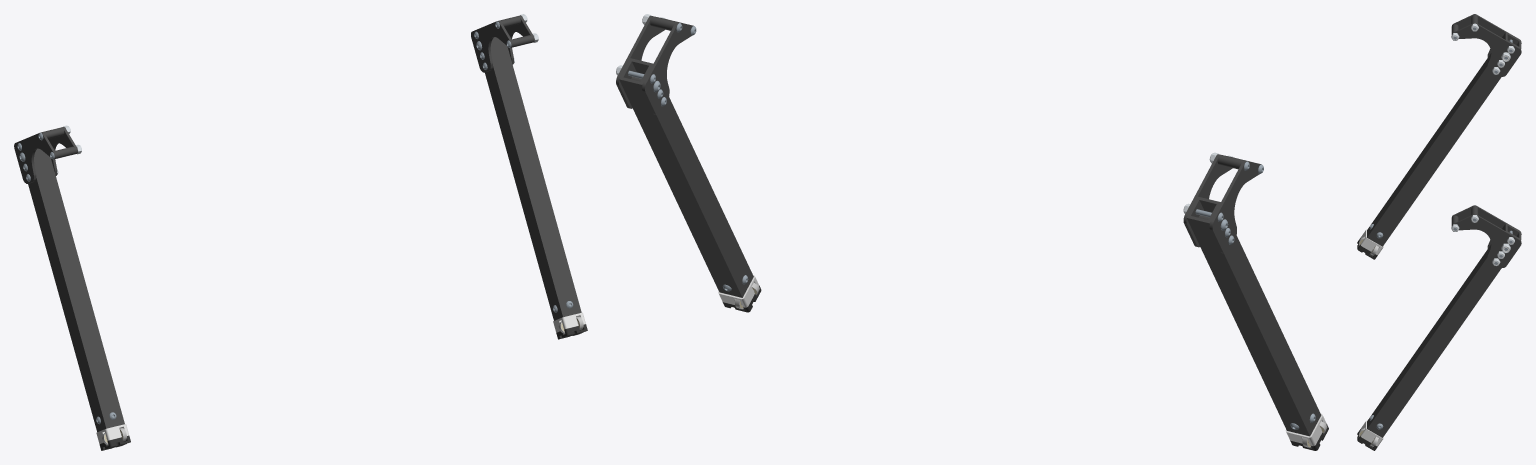
The picture shows the model from 3 angles, left to right: view 1: azimuth 30°, elevation 25°; view 2: azimuth 150°, elevation 25°; view 3: azimuth 270°, elevation 25°; orthographic projection. The views are drawn at different scales.
Visible parts, largest first — view 1: 0520-01 Inner tube 1"x1"x13.5" (×2), 0520-02 hook plate (×2); view 2: 0520-01 Inner tube 1"x1"x13.5" (×2), 0520-02 hook plate (×4); view 3: 0520-01 Inner tube 1"x1"x13.5" (×2), 0520-02 hook plate (×4), WCP-0418-006 Rev1_3 (×2).
Boxes of the visible parts, box(x1,y1,x2,y2) form: 0520-01 Inner tube 1"x1"x13.5" (×2): box(28, 37, 581, 432); 0520-02 hook plate (×2): box(14, 20, 513, 183); 0520-01 Inner tube 1"x1"x13.5" (×2): box(619, 58, 1321, 436); 0520-02 hook plate (×4): box(616, 15, 1261, 253); 0520-01 Inner tube 1"x1"x13.5" (×2): box(1367, 32, 1521, 437); 0520-02 hook plate (×4): box(1451, 14, 1521, 268); WCP-0418-006 Rev1_3 (×2): box(1360, 229, 1383, 446).
Bounding box in the file's own units: 0.6653 × 0.3595 × 0.2256.
